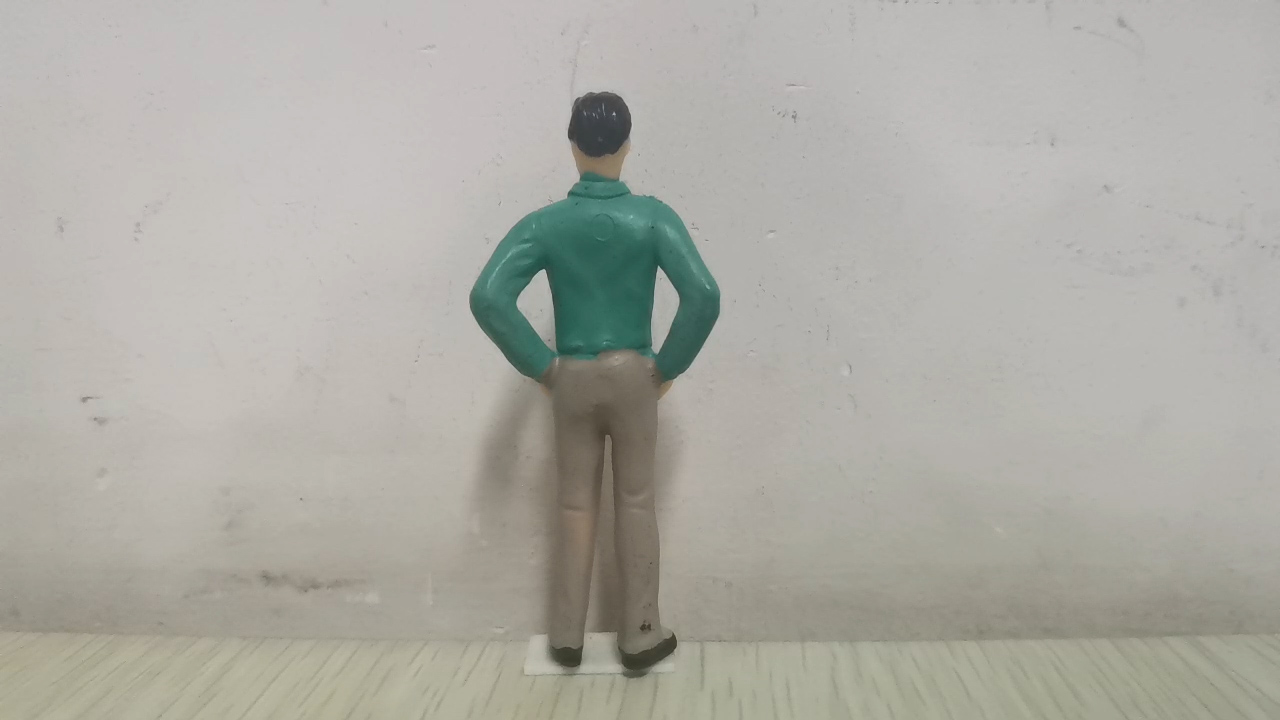person: (466, 89, 725, 673)
